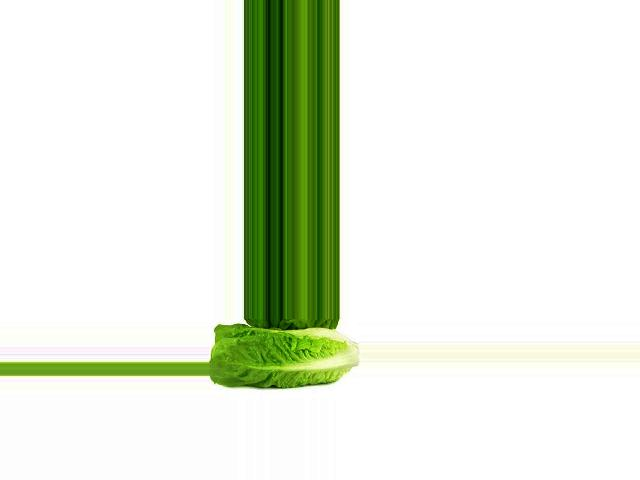lettuce: (208, 326, 358, 398)
